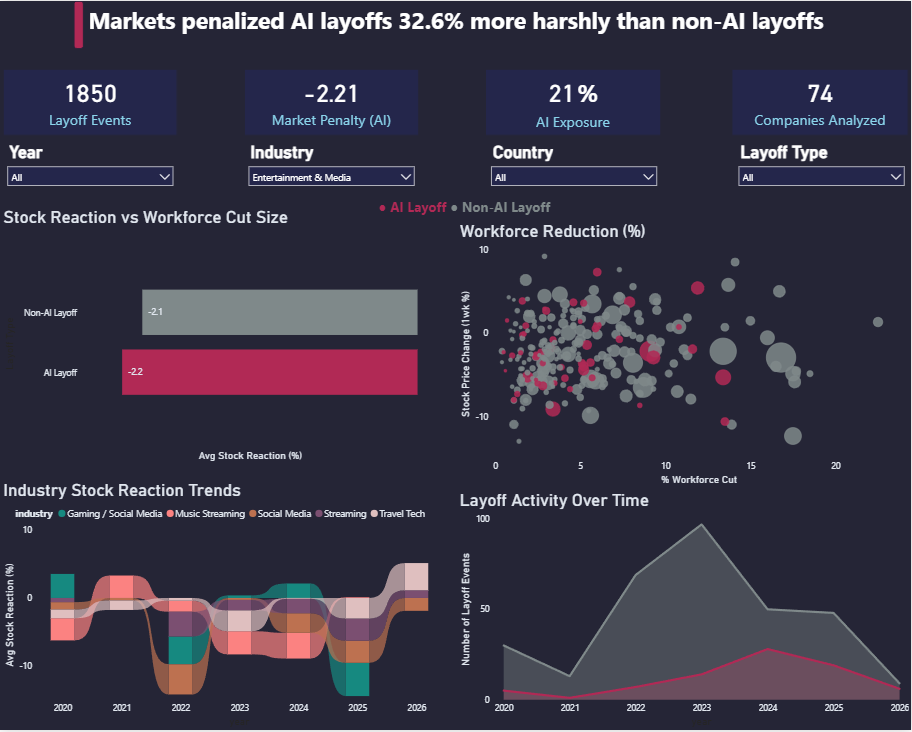

The page's visual inventory and layout, read from the dashboard file:
{"tool":"powerbi","page":{"name":"The Market Verdict","canvas":[1280,1024],"ordinal":0},"visuals":[{"type":"textbox","box":[0,0,1280,78.3],"z":0},{"type":"shape","box":[102.9,0,13.7,66.9],"z":1000},{"type":"advanceCardE03760C5AB684758B56AA29F9E6C257B","fields":{"mainMeasure":["public layoffs_cleaned.Total Events Static"]},"box":[0,91.7,253.3,101.7],"z":2000},{"type":"advanceCardE03760C5AB684758B56AA29F9E6C257B","fields":{"mainMeasure":["public layoffs_cleaned.Avg AI Stock Reaction"]},"box":[338.3,91.7,253.3,101.7],"z":3000},{"type":"advanceCardE03760C5AB684758B56AA29F9E6C257B","fields":{"mainMeasure":["public layoffs_cleaned.AI Share Static"]},"box":[676.7,91.7,255,101.7],"z":4000},{"type":"advanceCardE03760C5AB684758B56AA29F9E6C257B","fields":{"mainMeasure":["public layoffs_cleaned.Total Companies Static"]},"box":[1023.3,91.7,256.7,101.7],"z":5000},{"type":"slicer","fields":{"Values":["public layoffs_cleaned.year"]},"box":[0,193.3,253.3,78.3],"z":6000},{"type":"slicer","fields":{"Values":["public layoffs_cleaned.industry_category"]},"box":[338.3,193.3,253.3,78.3],"z":7000},{"type":"slicer","fields":{"Values":["public layoffs_cleaned.hq_country"]},"box":[678.3,193.3,253.3,78.3],"z":8000},{"type":"slicer","fields":{"Values":["public layoffs_cleaned.Layoff Type"]},"box":[1026.7,193.3,253.3,78.3],"z":9000},{"type":"clusteredBarChart","title":"Stock Reaction vs Workforce Cut Size","fields":{"Category":["public layoffs_cleaned.Layoff Type"],"Y":["Avg(public layoffs_cleaned.stock_price_change_1wk_pct)"]},"box":[0,289.5,591.2,361.4],"z":10000},{"type":"ribbonChart","title":"Industry Stock Reaction Trends","fields":{"Category":["public layoffs_cleaned.year"],"Y":["public layoffs_cleaned.Avg Stock Reaction"],"Series":["public layoffs_cleaned.industry"]},"box":[0,671.9,622.8,352.6],"z":11000},{"type":"scatterChart","title":"Workforce Reduction (%)","fields":{"X":["public layoffs_cleaned.percentage_of_workforce"],"Y":["public layoffs_cleaned.stock_price_change_1wk_pct"],"Series":["public layoffs_cleaned.Layoff Type"],"Size":["Sum(public layoffs_cleaned.number_laid_off)"]},"box":[640,308.3,640,376.7],"z":12000},{"type":"areaChart","title":"Layoff Activity Over Time","fields":{"Category":["public layoffs_cleaned.year"],"Y":["CountNonNull(public layoffs_cleaned.event_id)"],"Series":["public layoffs_cleaned.Layoff Type"]},"box":[640.4,686,640.4,338.6],"z":13000},{"type":"textbox","box":[526.3,271.9,268.4,36.8],"z":14000}]}

Visuals, with their boxes in screenshot pixels (x1, y1, x2, y2), scaled from the page's 1280x1024 canvas onto the 912x732 screenshot:
textbox: 0 0 911 56
shape: 73 0 83 48
advanceCardE03760C5AB684758B56AA29F9E6C257B - public layoffs_cleaned.Total Events Static: 0 66 180 138
advanceCardE03760C5AB684758B56AA29F9E6C257B - public layoffs_cleaned.Avg AI Stock Reaction: 241 66 422 138
advanceCardE03760C5AB684758B56AA29F9E6C257B - public layoffs_cleaned.AI Share Static: 482 66 664 138
advanceCardE03760C5AB684758B56AA29F9E6C257B - public layoffs_cleaned.Total Companies Static: 729 66 911 138
slicer - public layoffs_cleaned.year: 0 138 180 194
slicer - public layoffs_cleaned.industry_category: 241 138 422 194
slicer - public layoffs_cleaned.hq_country: 483 138 664 194
slicer - public layoffs_cleaned.Layoff Type: 732 138 911 194
"Stock Reaction vs Workforce Cut Size" clusteredBarChart: 0 207 421 465
"Industry Stock Reaction Trends" ribbonChart: 0 480 444 731
"Workforce Reduction (%)" scatterChart: 456 220 911 490
"Layoff Activity Over Time" areaChart: 456 490 911 731
textbox: 375 194 566 221
